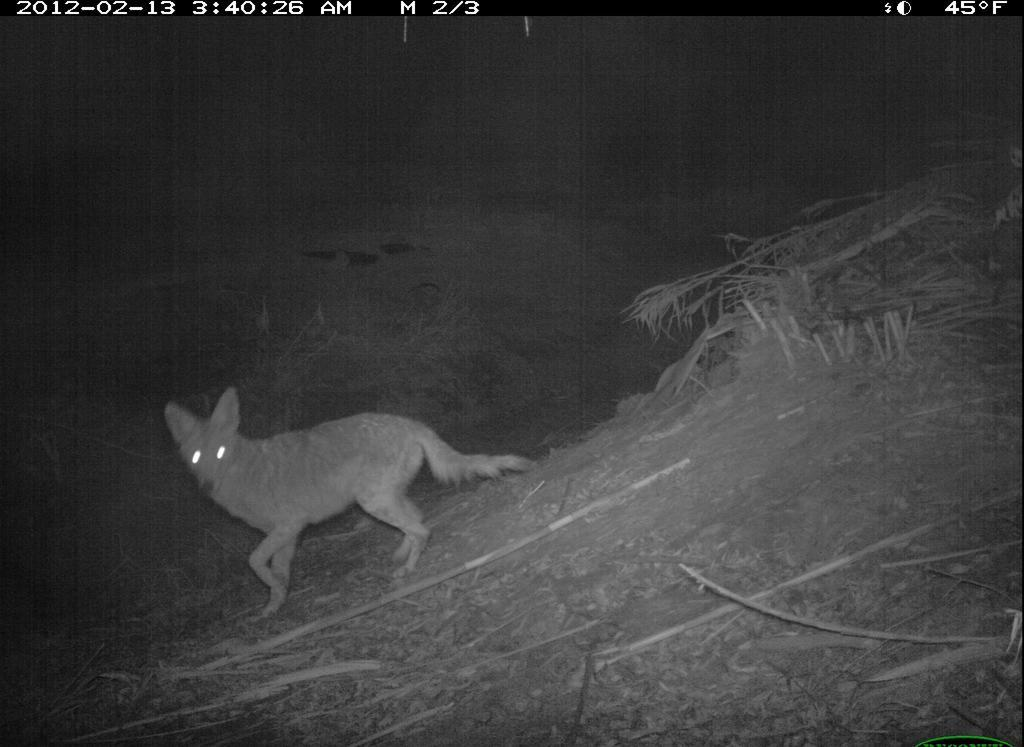coyote: (155, 383, 534, 616)
